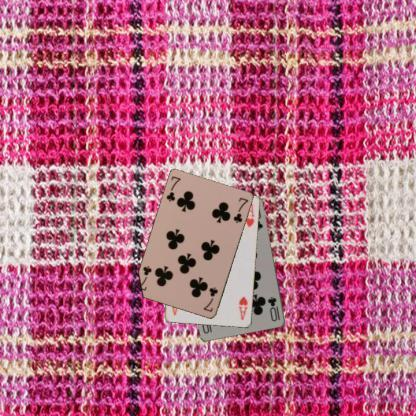10c: (266, 294, 282, 323)
7c: (201, 284, 219, 314), (164, 174, 182, 204)
Ah: (235, 294, 250, 321)
